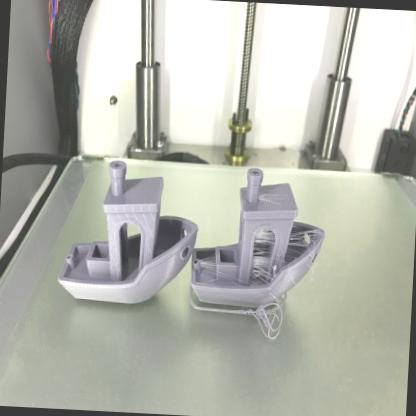fail: (252, 302, 286, 343), (253, 248, 272, 277), (290, 231, 306, 251), (203, 255, 218, 276), (257, 231, 276, 247)
